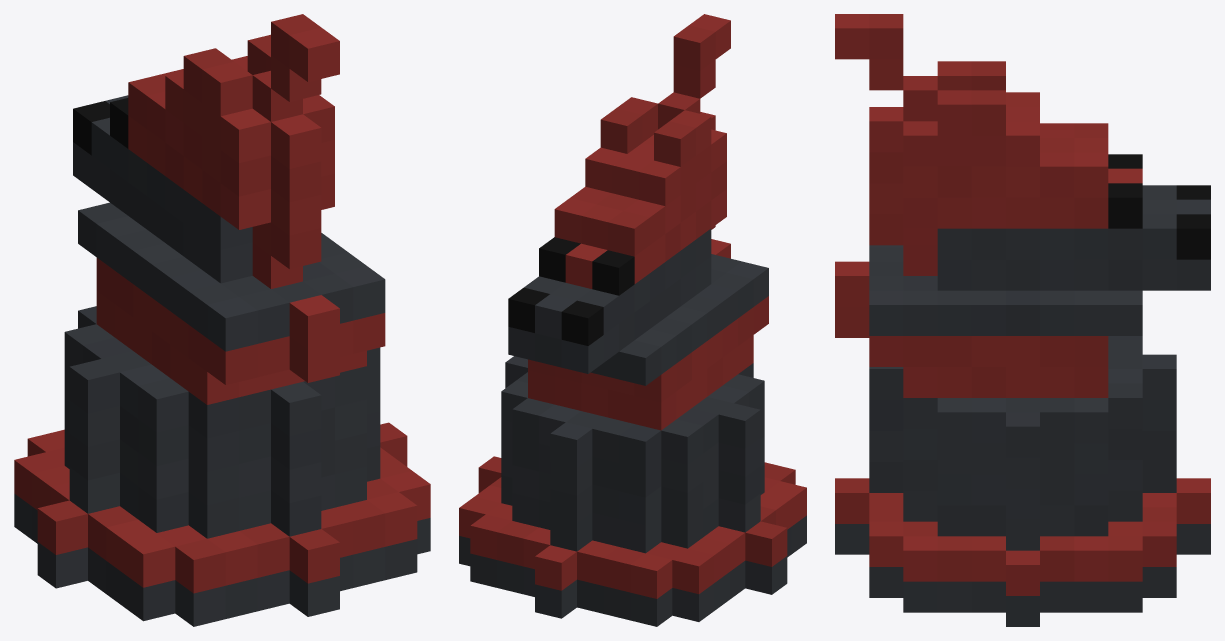
Rendered from black_knight.glb.
3 renders of one model, left to right at view 1: azimuth 30°, elevation 25°; view 2: azimuth 150°, elevation 25°; view 3: azimuth 270°, elevation 25°, orthographic. The views are drawn at different scales.
Size of the model in its own units: 1.1 by 1.7 by 1.1.
